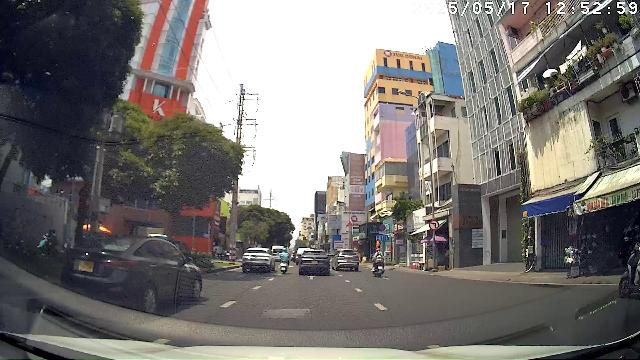123a-cam-re-trai: (429, 220, 439, 230)
